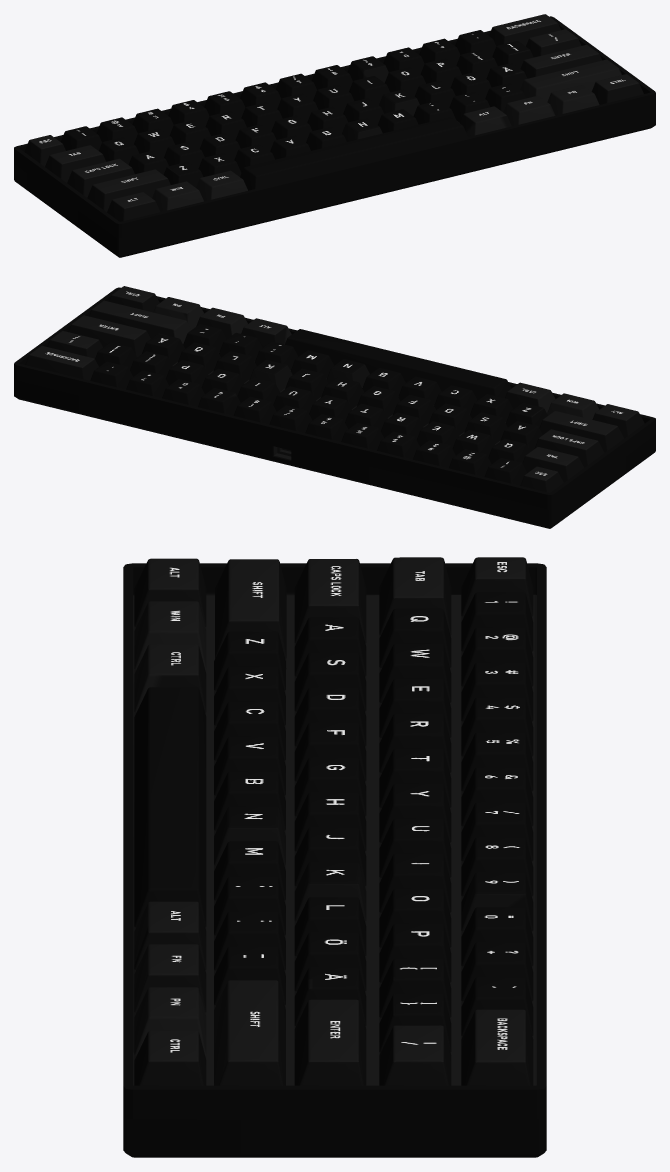
File: keyboard.glb
The picture shows the model from 3 angles, top to bottom: view 1: azimuth 30°, elevation 25°; view 2: azimuth 150°, elevation 25°; view 3: azimuth 270°, elevation 25°; orthographic projection. The views are drawn at different scales.
Visible parts, largest first — view 1: Keycap, BackPlate; view 2: Keycap, BackPlate; view 3: Keycap, BackPlate.
Part boxes in pixels (x1,y1,x2,y2): Keycap: (24,14,643,221); BackPlate: (14,16,655,257); Keycap: (25,286,644,492); BackPlate: (14,287,655,528); Keycap: (134,557,533,1085); BackPlate: (123,563,546,1157).
Size of the model in its own units: 129 by 10.14 by 43.84.
2 materials, 2 textured.
